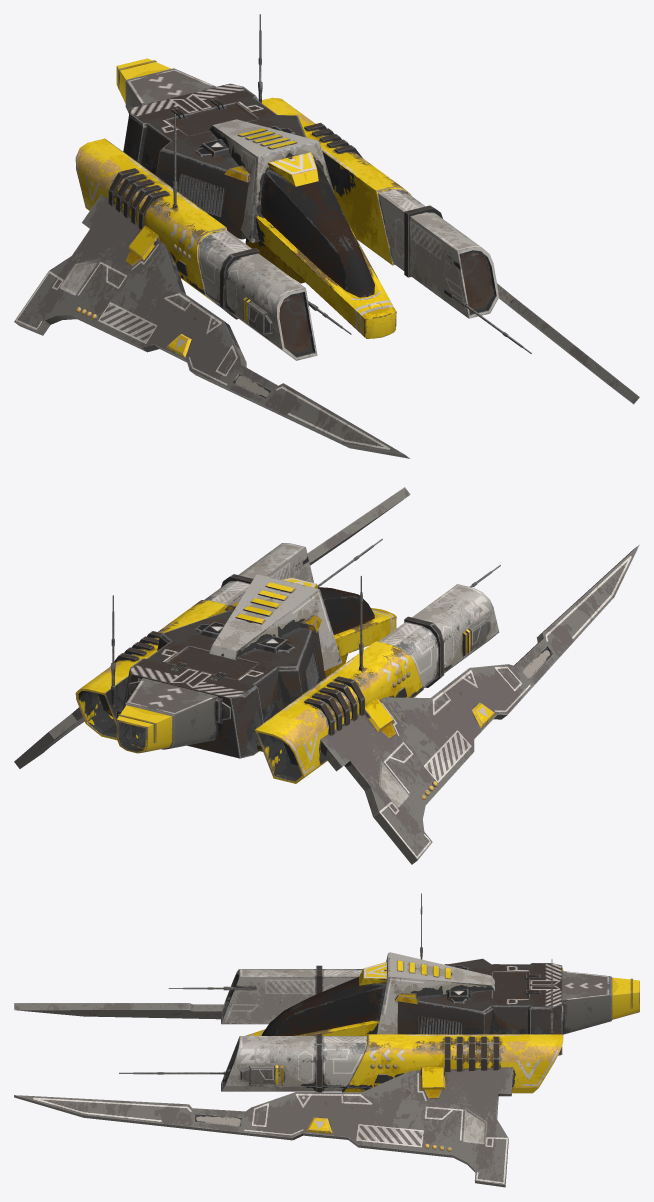
Rendered from Striker.glb.
3 views of the same model, one above another, from view 1: azimuth 30°, elevation 25°; view 2: azimuth 150°, elevation 25°; view 3: azimuth 270°, elevation 25° (orthographic). The views are drawn at different scales.
Parts seen in each view (by area): view 1: Striker; view 2: Striker; view 3: Striker.
Part boxes in pixels (bbox=[...]): Striker: bbox=[14, 14, 639, 458]; Striker: bbox=[14, 487, 639, 864]; Striker: bbox=[14, 893, 639, 1187].
Size of the model in its own units: 5.03 by 2.68 by 8.43.
Materials: 1 (1 with a texture image).
